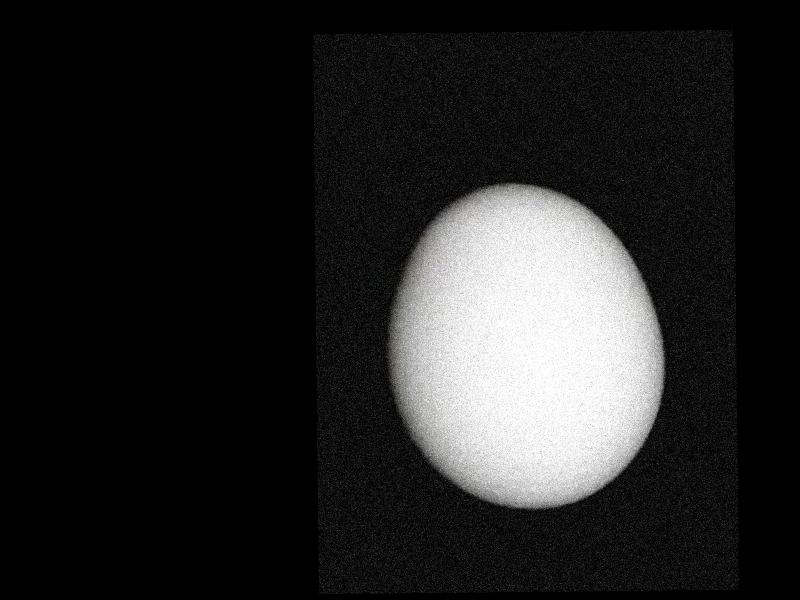Eggs: (392, 185, 664, 512)
